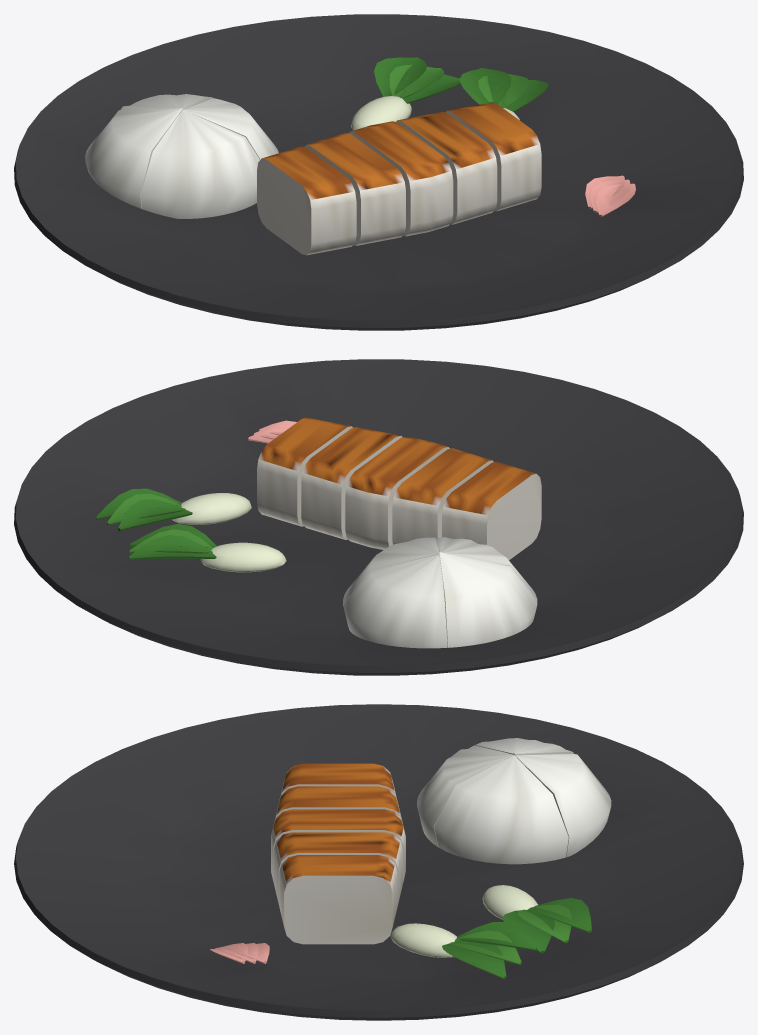
The model's file is dish-black-cod-lod0.glb.
3 views of the same model, one above another, from view 1: azimuth 30°, elevation 25°; view 2: azimuth 150°, elevation 25°; view 3: azimuth 270°, elevation 25° (orthographic).
Visible parts, largest first — view 1: black-cod.lod0__table dark glaze, black-cod.lod0__food glaze, black-cod.lod0__food; view 2: black-cod.lod0__table dark glaze, black-cod.lod0__food glaze, black-cod.lod0__food; view 3: black-cod.lod0__table dark glaze, black-cod.lod0__food, black-cod.lod0__food glaze.
Part boxes in pixels (left/top/right/bottom): black-cod.lod0__table dark glaze: left=14, top=14, right=743, bottom=330; black-cod.lod0__food glaze: left=257, top=102, right=541, bottom=255; black-cod.lod0__food: left=85, top=57, right=635, bottom=218; black-cod.lod0__table dark glaze: left=14, top=359, right=743, bottom=675; black-cod.lod0__food glaze: left=257, top=417, right=541, bottom=559; black-cod.lod0__food: left=96, top=420, right=537, bottom=648; black-cod.lod0__table dark glaze: left=14, top=704, right=743, bottom=1020; black-cod.lod0__food: left=210, top=738, right=611, bottom=979; black-cod.lod0__food glaze: left=271, top=763, right=405, bottom=944.
Size of the model in its own units: 0.27 by 0.0404 by 0.27.
